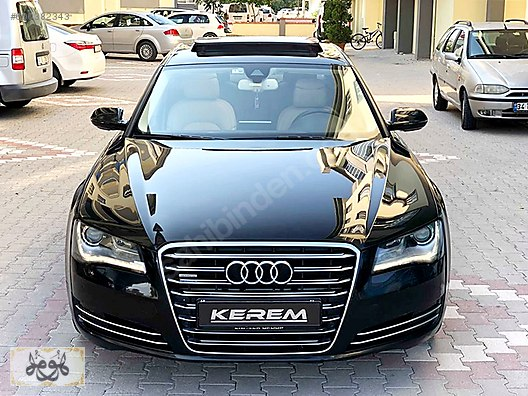audi: (219, 256, 299, 294)
